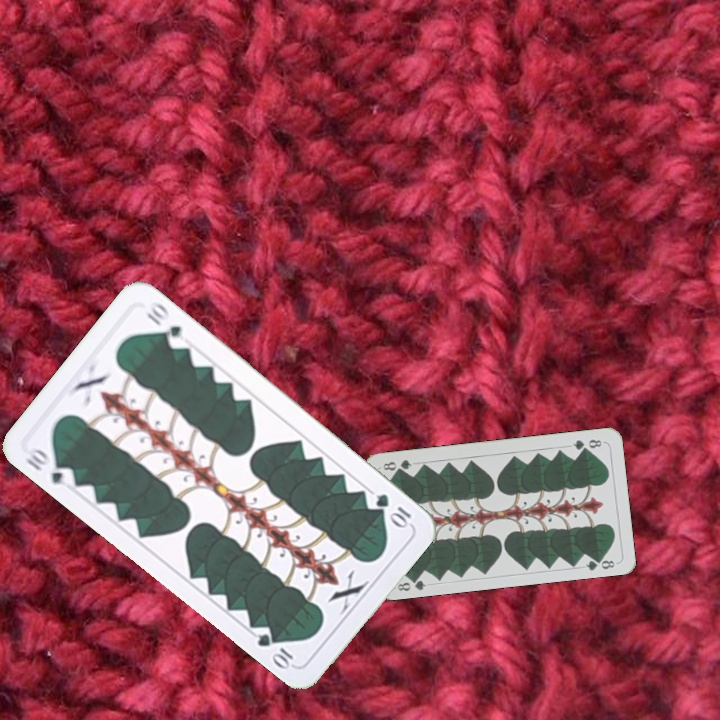G10: (21, 444, 78, 491), (371, 489, 414, 530)
G8: (393, 573, 429, 594), (569, 435, 604, 453)
